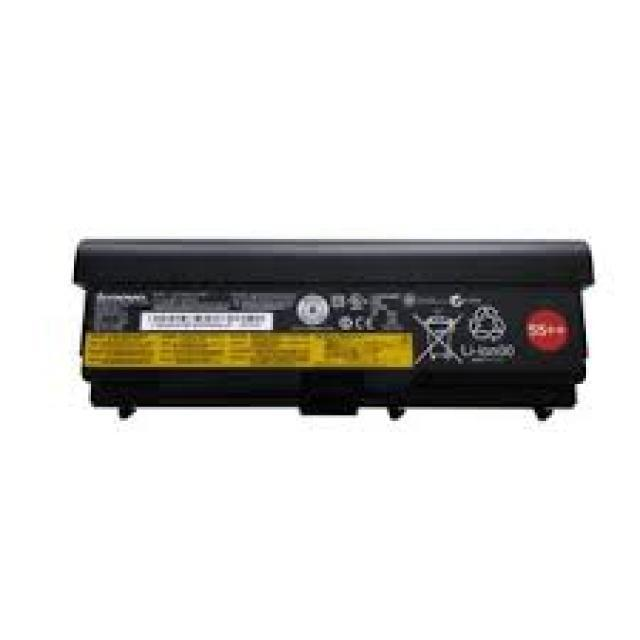battery: (70, 232, 596, 419)
